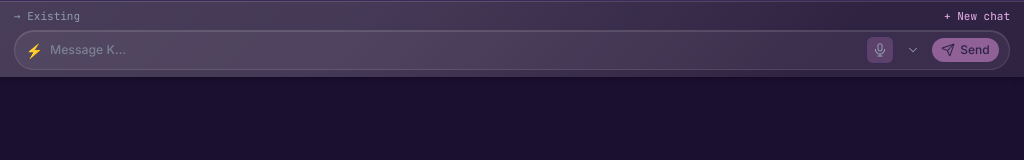
Test: MessageDock › a failed send surfaces ask.error inline (testid dock-error) and keeps the draft
The width and height of the screenshot is (1024, 160).
Expected: the text "→ Existing" is shown, top-left (14, 8), bottom-right (80, 24)
In the field with test id "dock-input": (454, 50) top-left (50, 41), bottom-right (859, 59), type "this will fail"
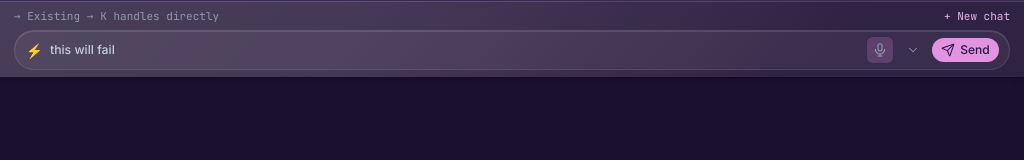
Click the button with test id "dock-send": (965, 50) top-left (932, 38), bottom-right (998, 62)
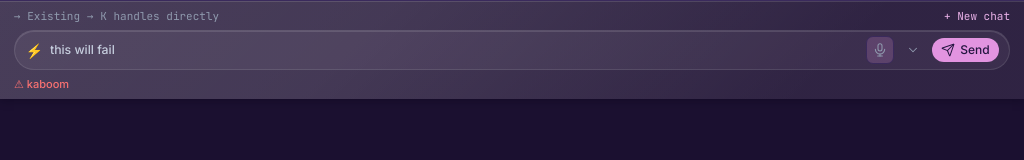
Expected: the text "⚠ kaboom" is shown, top-left (14, 76), bottom-right (69, 90)
Expected: the text with test id "dock-error" shows "kaboom", top-left (27, 76), bottom-right (69, 90)
